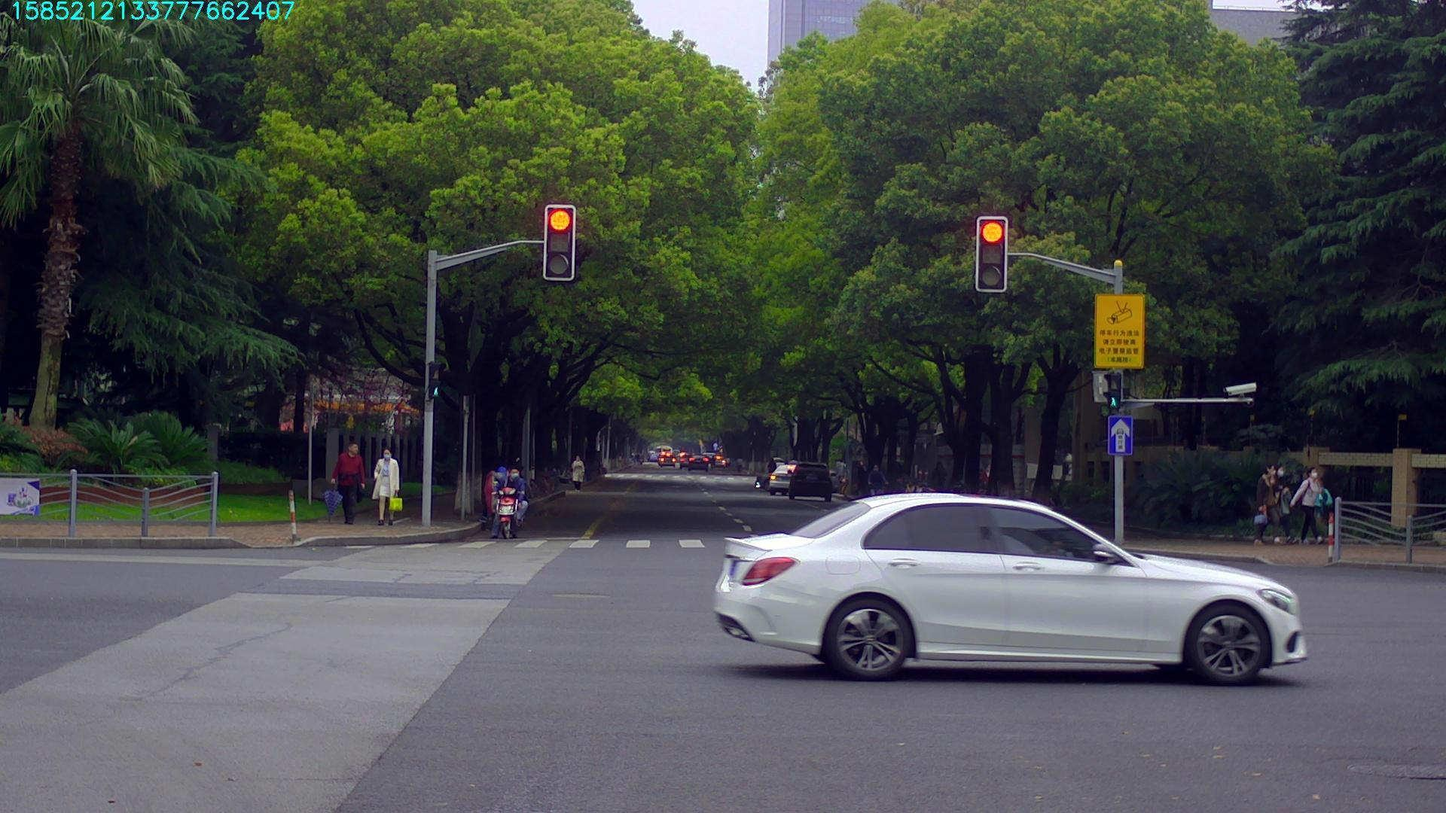red: (978, 217, 1005, 290), (546, 206, 572, 279)
